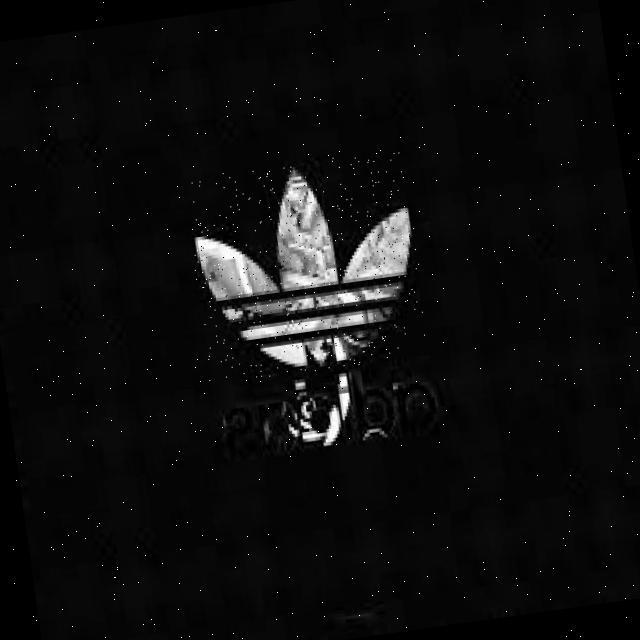Adidas: (181, 146, 433, 386)
